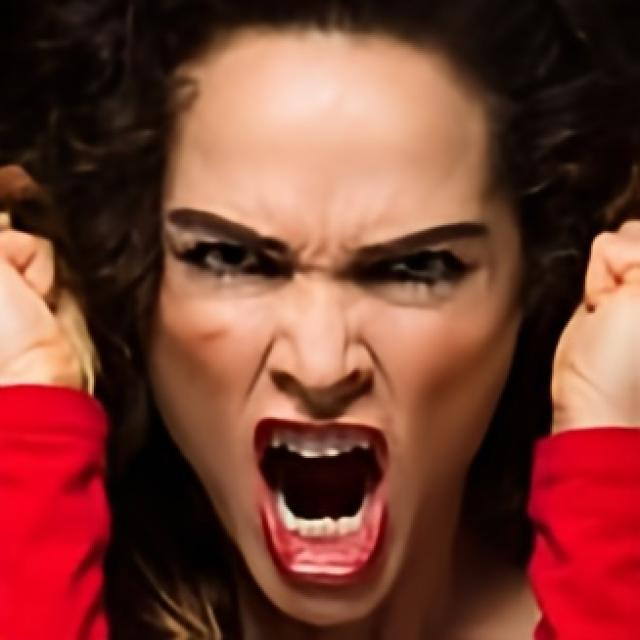anger: (154, 51, 520, 601)
